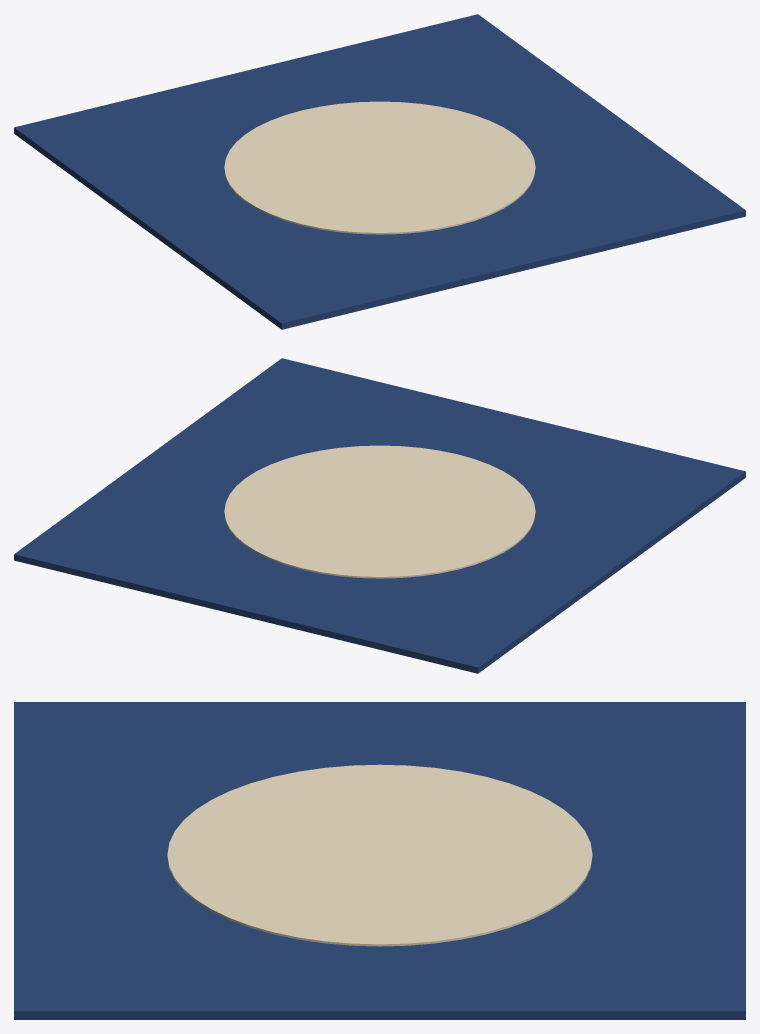
File: RecordSleeveBlue.fbx
3 renders of one model, top to bottom at view 1: azimuth 30°, elevation 25°; view 2: azimuth 150°, elevation 25°; view 3: azimuth 270°, elevation 25°, orthographic. The views are drawn at different scales.
Visible parts, largest first — view 1: RecordSleeveBlue; view 2: RecordSleeveBlue; view 3: RecordSleeveBlue.
Boxes of the visible parts, x1=… form: RecordSleeveBlue: x1=14, y1=14, x2=745, y2=329; RecordSleeveBlue: x1=14, y1=358, x2=745, y2=673; RecordSleeveBlue: x1=14, y1=702, x2=745, y2=1019.
Size of the model in its own units: 31 by 0.5 by 31.
